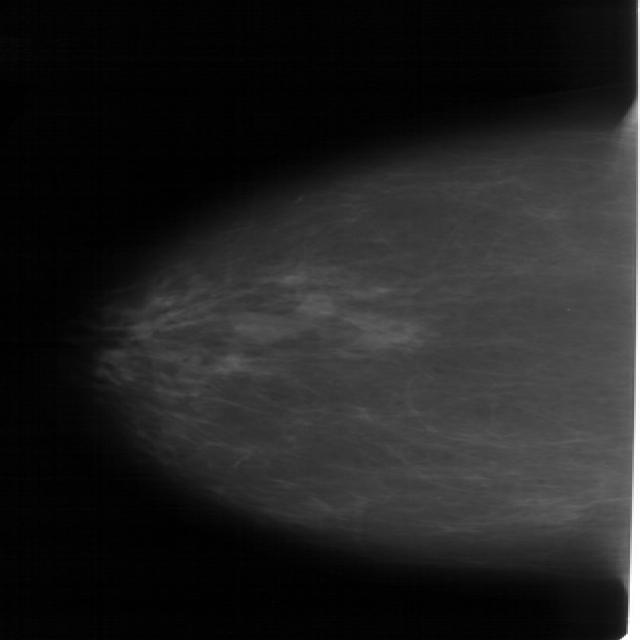tumour: (221, 310, 310, 342)
